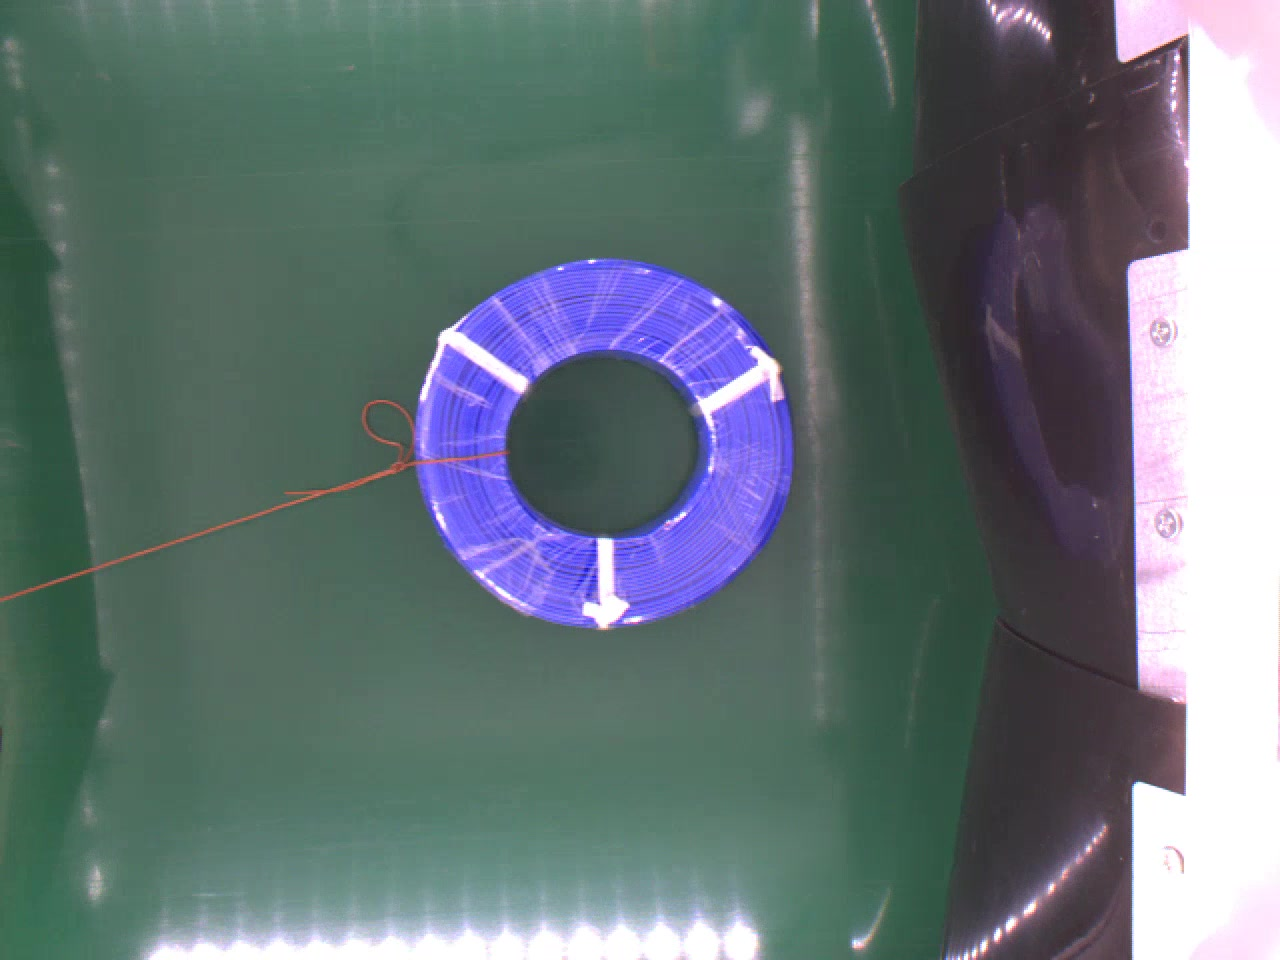blue: (415, 252, 797, 620)
